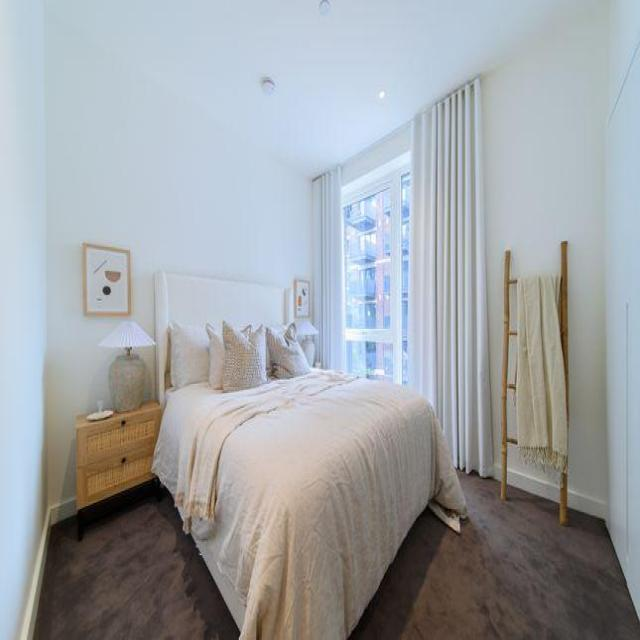Wall: (0, 0, 310, 637), (51, 0, 593, 176), (481, 4, 610, 517), (351, 473, 640, 639), (35, 486, 237, 639)
